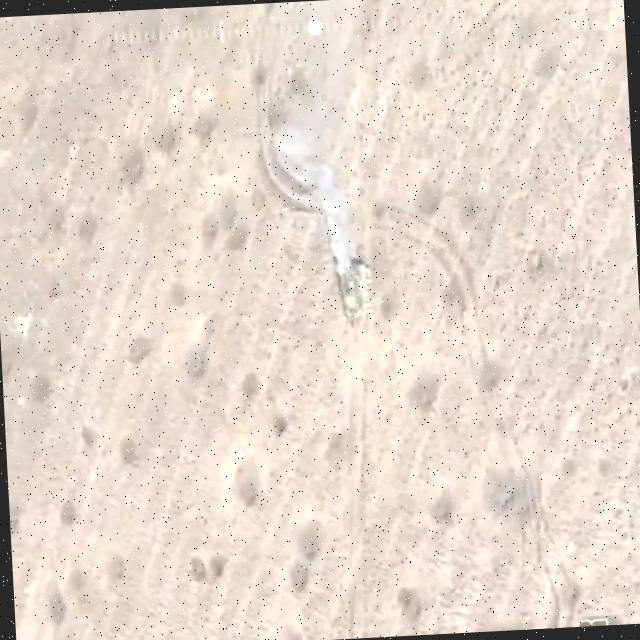MBT: (338, 261, 378, 334)
